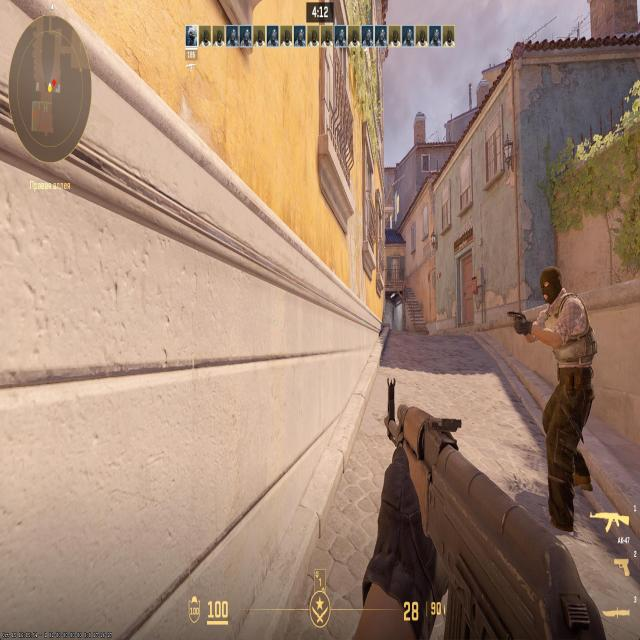T: (550, 278, 582, 451)
T_heat: (554, 295, 571, 319)
